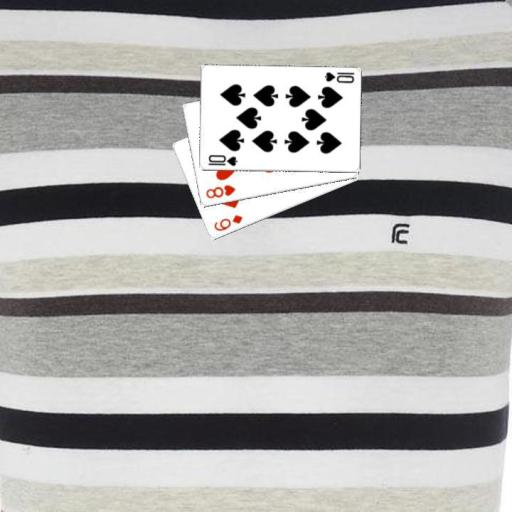10S: (321, 69, 356, 85), (205, 152, 239, 168)
6D: (210, 212, 244, 232)
8H: (203, 182, 237, 201)
